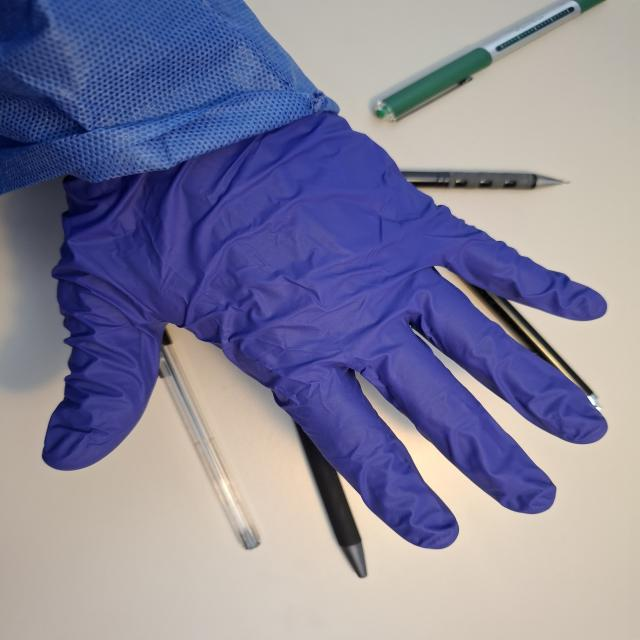glove_on: (36, 104, 612, 552)
